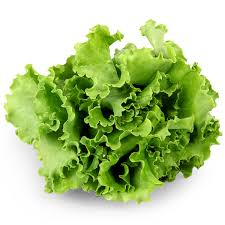Lettuce: (4, 17, 223, 206)
